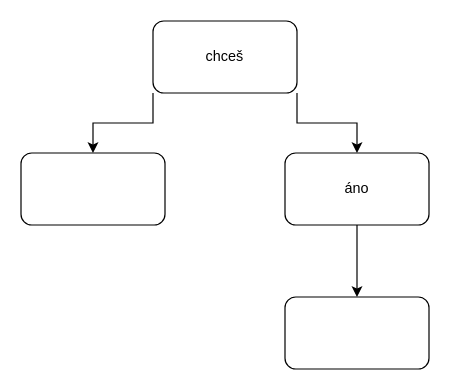
Some shapes in this 450 by 390 pixel diagram are drawn without their labels. Each missing label, with the centre of its shape:
máš to: the point at 356,332
nie: the point at 92,188
